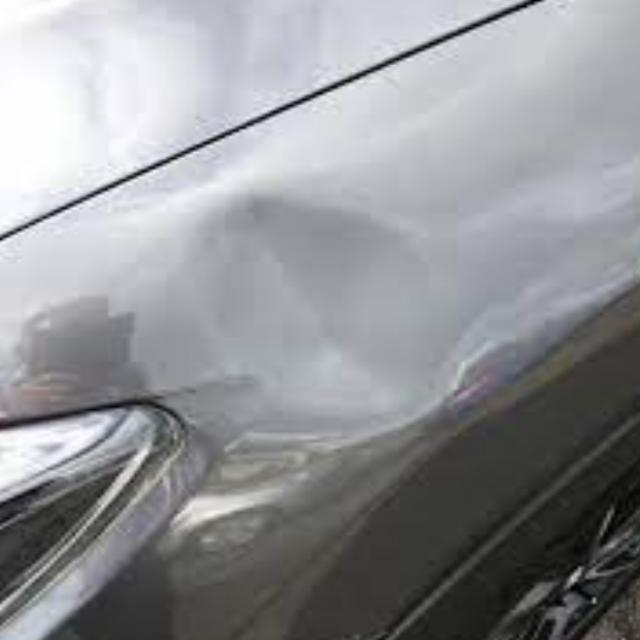dents: (153, 168, 489, 475)
